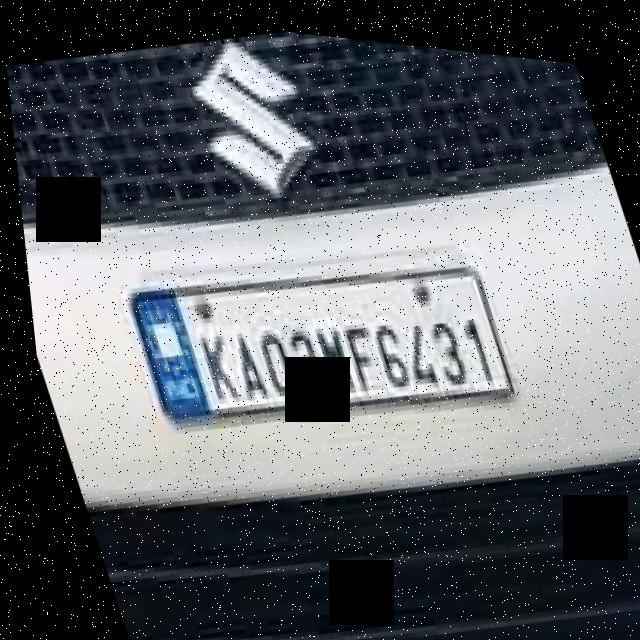0: (243, 313, 293, 397)
1: (448, 291, 497, 381)
3: (413, 290, 470, 391), (273, 313, 325, 400)
4: (389, 308, 444, 393)
6: (360, 305, 408, 389)
A: (213, 315, 266, 407)
F: (333, 305, 383, 393)
K: (186, 318, 237, 407)
M: (297, 305, 356, 396)
